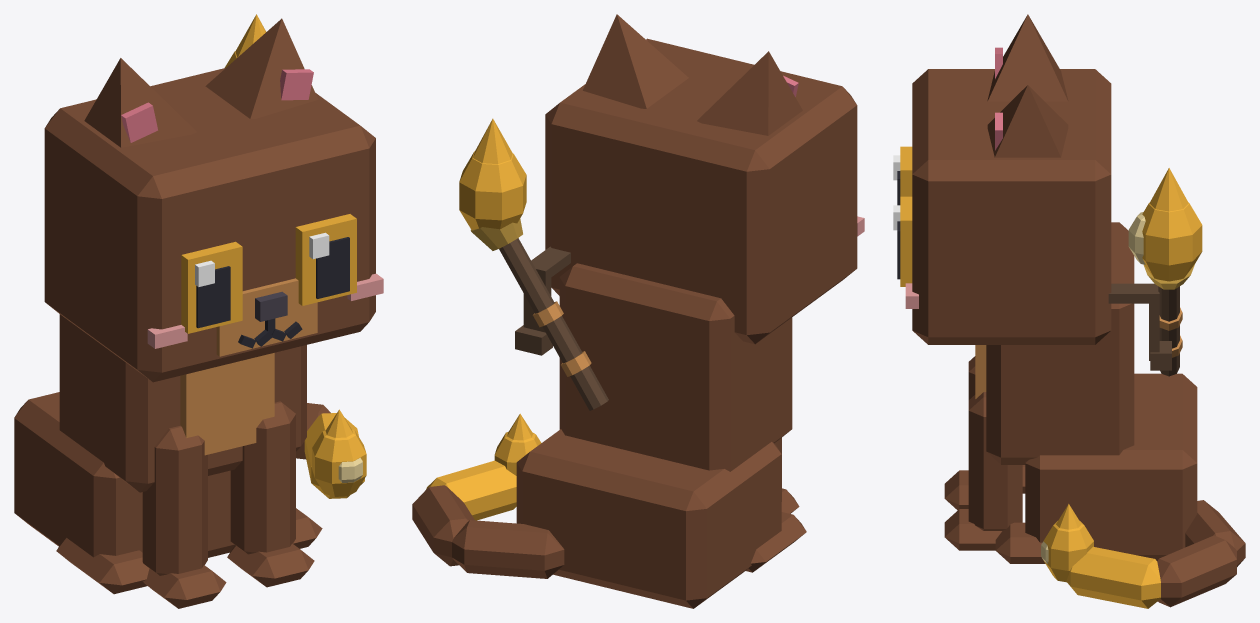
File: CatCafe_Cat_Torch_Sit.glb
The picture shows the model from 3 angles, left to right: view 1: azimuth 30°, elevation 25°; view 2: azimuth 150°, elevation 25°; view 3: azimuth 270°, elevation 25°; orthographic projection. The views are drawn at different scales.
Visible parts, largest first — view 1: CatCafe_Cat_Torch_Sit_Head, CatCafe_Cat_Torch_Sit_Body, CatCafe_Cat_Torch_Sit_LegF2, CatCafe_Cat_Torch_Sit_LegF1, CatCafe_Cat_Torch_Sit_EarL, CatCafe_Cat_Torch_Sit_EarR, CatCafe_Cat_Torch_Sit_Eye2, CatCafe_Cat_Torch_Sit_Eye1, CatCafe_Cat_Torch_Sit_Tail_Flame, CatCafe_Cat_Torch_Sit_Tail, CatCafe_Cat_Torch_Sit_Flame; view 2: CatCafe_Cat_Torch_Sit_Body, CatCafe_Cat_Torch_Sit_Head, CatCafe_Cat_Torch_Sit_Tail, CatCafe_Cat_Torch_Sit_Prop, CatCafe_Cat_Torch_Sit_EarL, CatCafe_Cat_Torch_Sit_Flame, CatCafe_Cat_Torch_Sit_EarR, CatCafe_Cat_Torch_Sit_Tail_Flame; view 3: CatCafe_Cat_Torch_Sit_Head, CatCafe_Cat_Torch_Sit_Body, CatCafe_Cat_Torch_Sit_Tail, CatCafe_Cat_Torch_Sit_LegF1, CatCafe_Cat_Torch_Sit_Flame, CatCafe_Cat_Torch_Sit_EarL, CatCafe_Cat_Torch_Sit_EarR, CatCafe_Cat_Torch_Sit_Prop, CatCafe_Cat_Torch_Sit_Tail_Flame, CatCafe_Cat_Torch_Sit_Eye1, CatCafe_Cat_Torch_Sit_LegF2, CatCafe_Cat_Torch_Sit_Eye2.
Boxes of the visible parts, x1,y1,x2,y2 form: CatCafe_Cat_Torch_Sit_Head: (44,68,383,382); CatCafe_Cat_Torch_Sit_Body: (14,314,322,594); CatCafe_Cat_Torch_Sit_LegF2: (142,425,226,608); CatCafe_Cat_Torch_Sit_LegF1: (227,401,314,587); CatCafe_Cat_Torch_Sit_EarL: (205,18,318,118); CatCafe_Cat_Torch_Sit_EarR: (84,58,196,147); CatCafe_Cat_Torch_Sit_Eye2: (181,241,242,333); CatCafe_Cat_Torch_Sit_Eye1: (295,214,356,305); CatCafe_Cat_Torch_Sit_Tail_Flame: (312,409,366,496); CatCafe_Cat_Torch_Sit_Tail: (296,403,364,498); CatCafe_Cat_Torch_Sit_Flame: (224,14,265,67); CatCafe_Cat_Torch_Sit_Body: (516,263,806,608); CatCafe_Cat_Torch_Sit_Head: (545,38,864,344); CatCafe_Cat_Torch_Sit_Tail: (412,460,564,578); CatCafe_Cat_Torch_Sit_Prop: (470,218,608,410); CatCafe_Cat_Torch_Sit_EarL: (583,14,688,108); CatCafe_Cat_Torch_Sit_Flame: (459,118,526,229); CatCafe_Cat_Torch_Sit_EarR: (697,51,802,135); CatCafe_Cat_Torch_Sit_Tail_Flame: (494,413,541,475); CatCafe_Cat_Torch_Sit_Head: (905,69,1111,344); CatCafe_Cat_Torch_Sit_Body: (975,222,1197,563); CatCafe_Cat_Torch_Sit_Tail: (1066,500,1245,608); CatCafe_Cat_Torch_Sit_LegF1: (944,392,1022,550); CatCafe_Cat_Torch_Sit_Flame: (1128,168,1202,281); CatCafe_Cat_Torch_Sit_EarL: (987,85,1068,157); CatCafe_Cat_Torch_Sit_EarR: (987,14,1068,101); CatCafe_Cat_Torch_Sit_Prop: (1108,264,1194,376); CatCafe_Cat_Torch_Sit_Tail_Flame: (1041,504,1093,582); CatCafe_Cat_Torch_Sit_Eye1: (893,196,912,286); CatCafe_Cat_Torch_Sit_LegF2: (944,356,975,510); CatCafe_Cat_Torch_Sit_Eye2: (893,146,912,205).
Size of the model in its own units: 1.24 by 1.85 by 1.24.
Materials: 1 (1 with a texture image).
